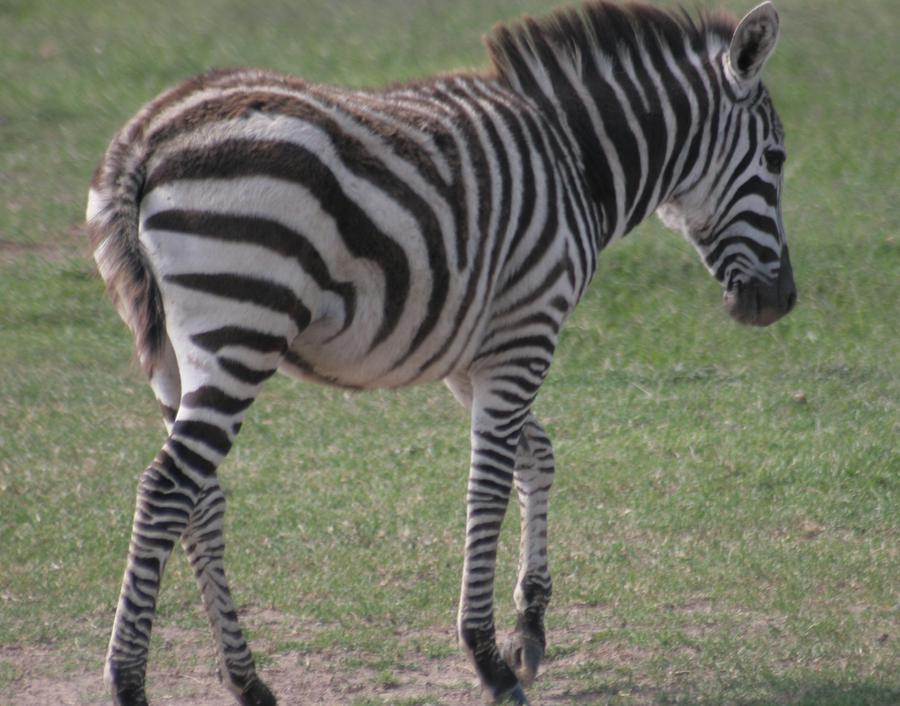zebra_plains: (163, 83, 614, 368)
